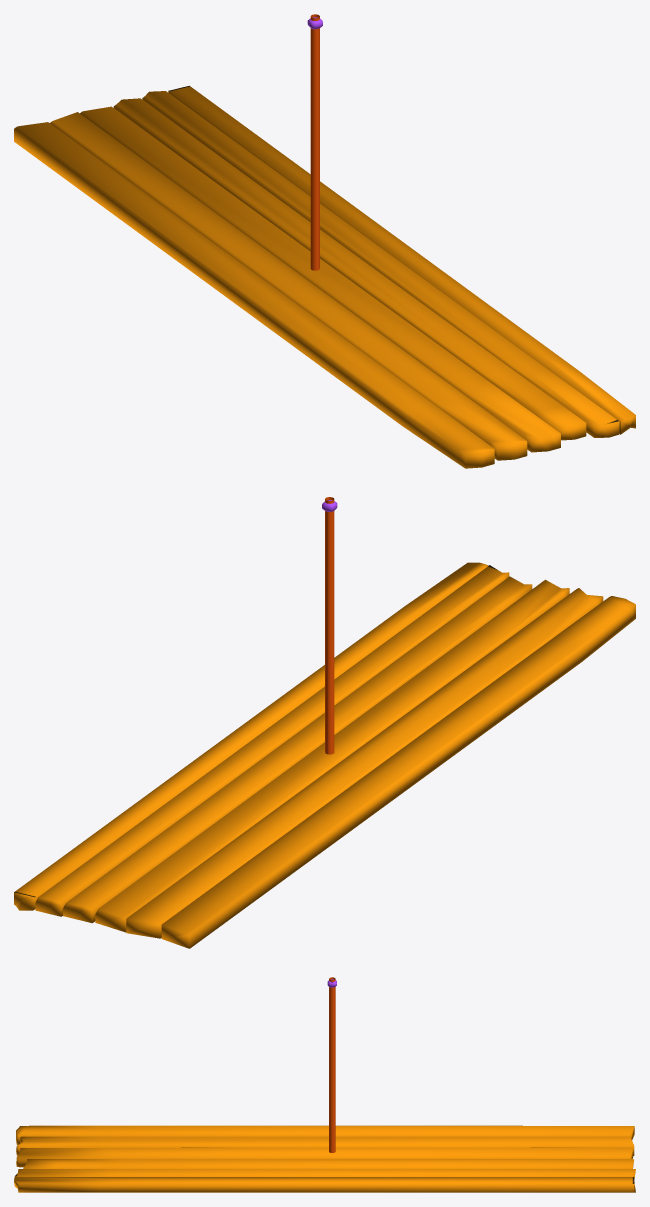
The model's file is seesaw.fbx.
The picture shows the model from 3 angles, top to bottom: view 1: azimuth 30°, elevation 25°; view 2: azimuth 150°, elevation 25°; view 3: azimuth 270°, elevation 25°; orthographic projection. The views are drawn at different scales.
Visible parts, largest first — view 1: SeeSaw Planks; view 2: SeeSaw Planks; view 3: SeeSaw Planks.
Boxes of the visible parts, x1,y1,x2,y2 form: SeeSaw Planks: (14, 14, 635, 468); SeeSaw Planks: (14, 497, 635, 948); SeeSaw Planks: (14, 977, 635, 1192).
Size of the model in its own units: 752 by 1153 by 3369.
